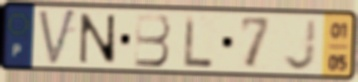7: (239, 16, 272, 72)
B: (133, 12, 173, 69)
J: (281, 17, 319, 73)
L: (183, 13, 215, 69)
N: (78, 12, 119, 66)
V: (36, 7, 79, 69)
